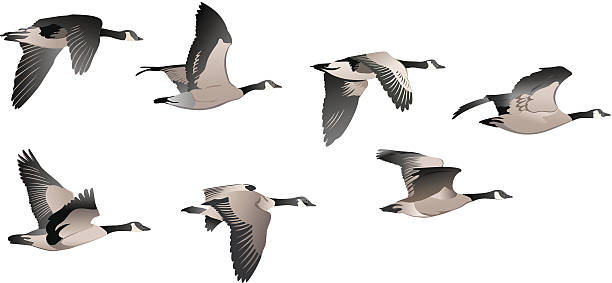goose: (135, 2, 283, 111), (5, 147, 153, 254), (178, 179, 321, 283), (1, 14, 145, 113), (306, 48, 447, 149), (449, 63, 612, 137), (369, 144, 514, 221)
